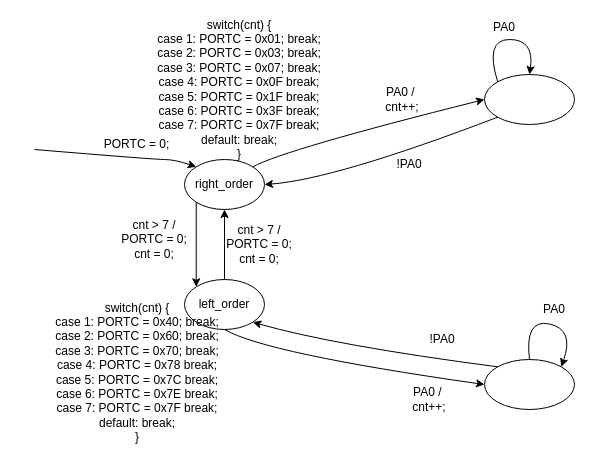
Image size: 592x461. Some labels were removed from this diagram. Each missing label, with the centre of its shape:
"left_operation" goes at point (529, 384).
"right_operation" goes at point (529, 99).
